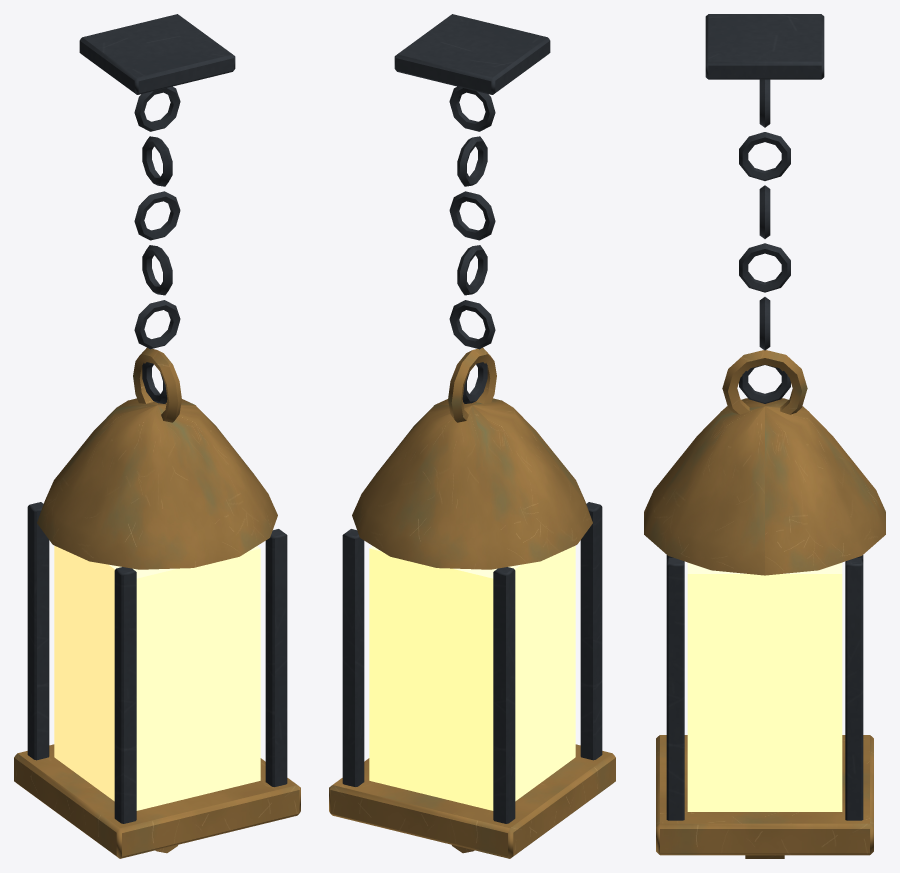
The model's file is settlement_inn_undercroft_lantern_hung.gltf.
3 renders of one model, left to right at view 1: azimuth 30°, elevation 25°; view 2: azimuth 150°, elevation 25°; view 3: azimuth 270°, elevation 25°, orthographic. The views are drawn at different scales.
Visible parts, largest first — view 1: settlement_inn_undercroft_lantern_hung_LOD0; view 2: settlement_inn_undercroft_lantern_hung_LOD0; view 3: settlement_inn_undercroft_lantern_hung_LOD0.
Part boxes in pixels (bbox=[...]): settlement_inn_undercroft_lantern_hung_LOD0: bbox=[14, 14, 300, 858]; settlement_inn_undercroft_lantern_hung_LOD0: bbox=[329, 14, 615, 858]; settlement_inn_undercroft_lantern_hung_LOD0: bbox=[644, 14, 885, 858].
Size of what is drawn, in the model's own units: 0.25 by 0.913 by 0.2437.
Materials: 3 (2 with a texture image).
